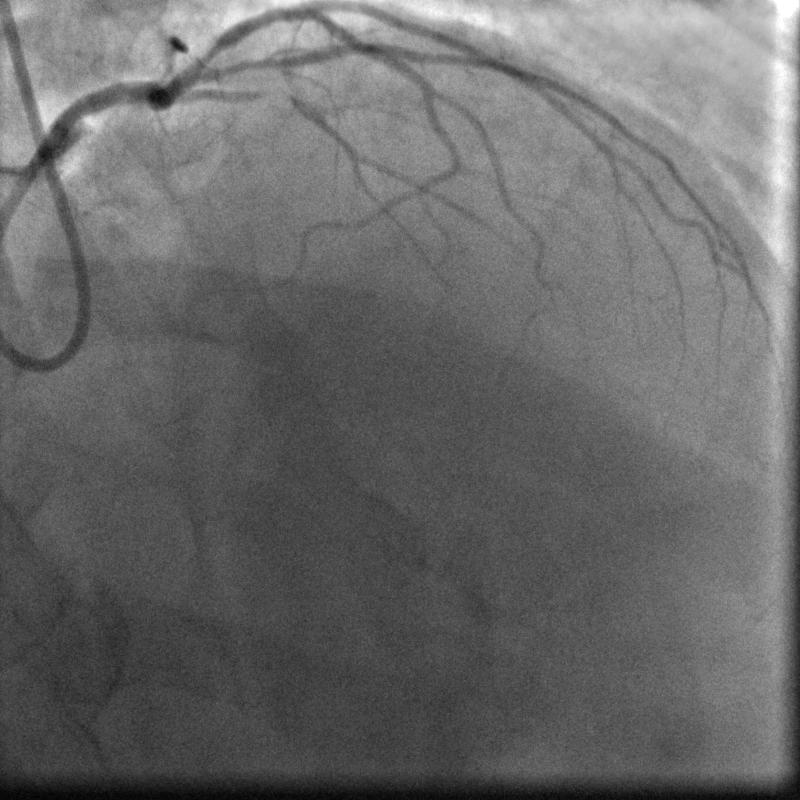Stenosis: (189, 39, 228, 67)
